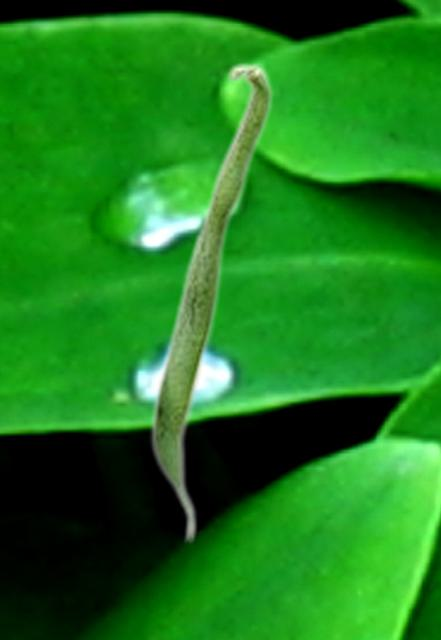french_bean: (149, 61, 273, 545)
